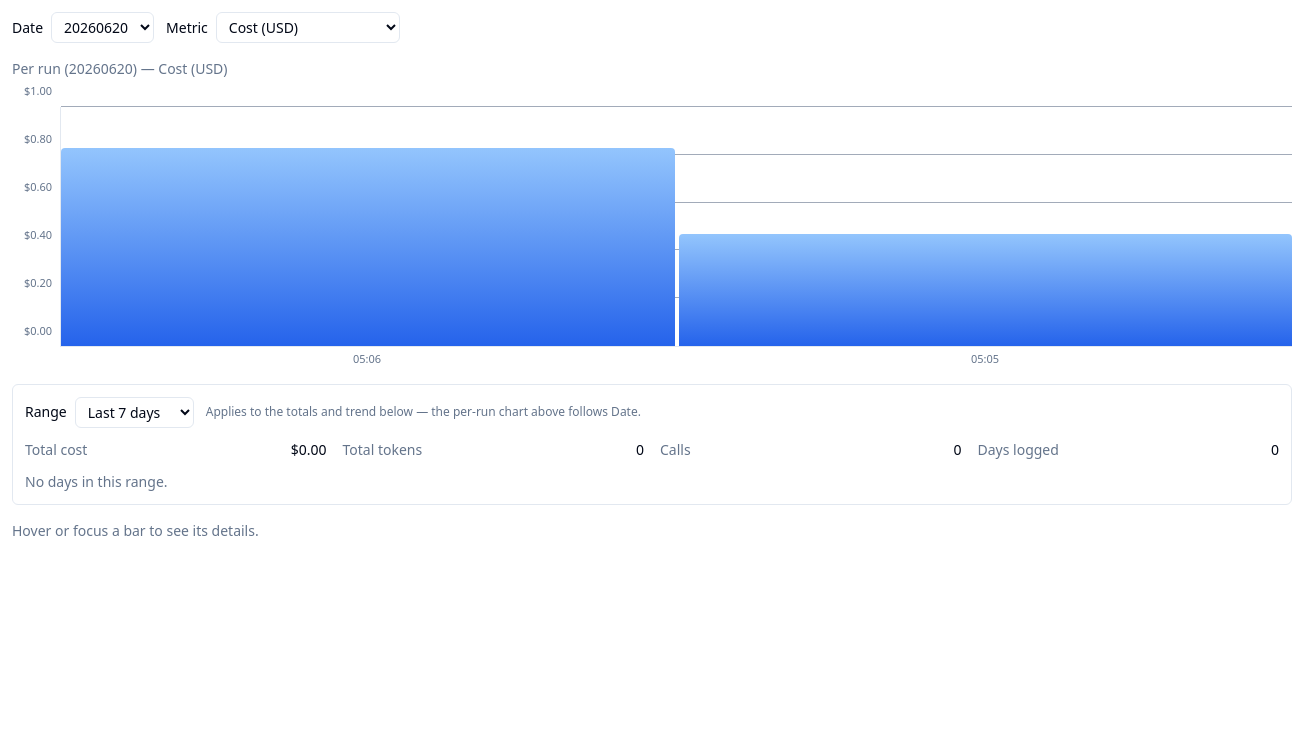
Test case: UsageDashboard › shows formatted key/value detail when a bar is hovered
Hover over the button with test id "usage-bar-0": (368, 226) [61,107,674,346]
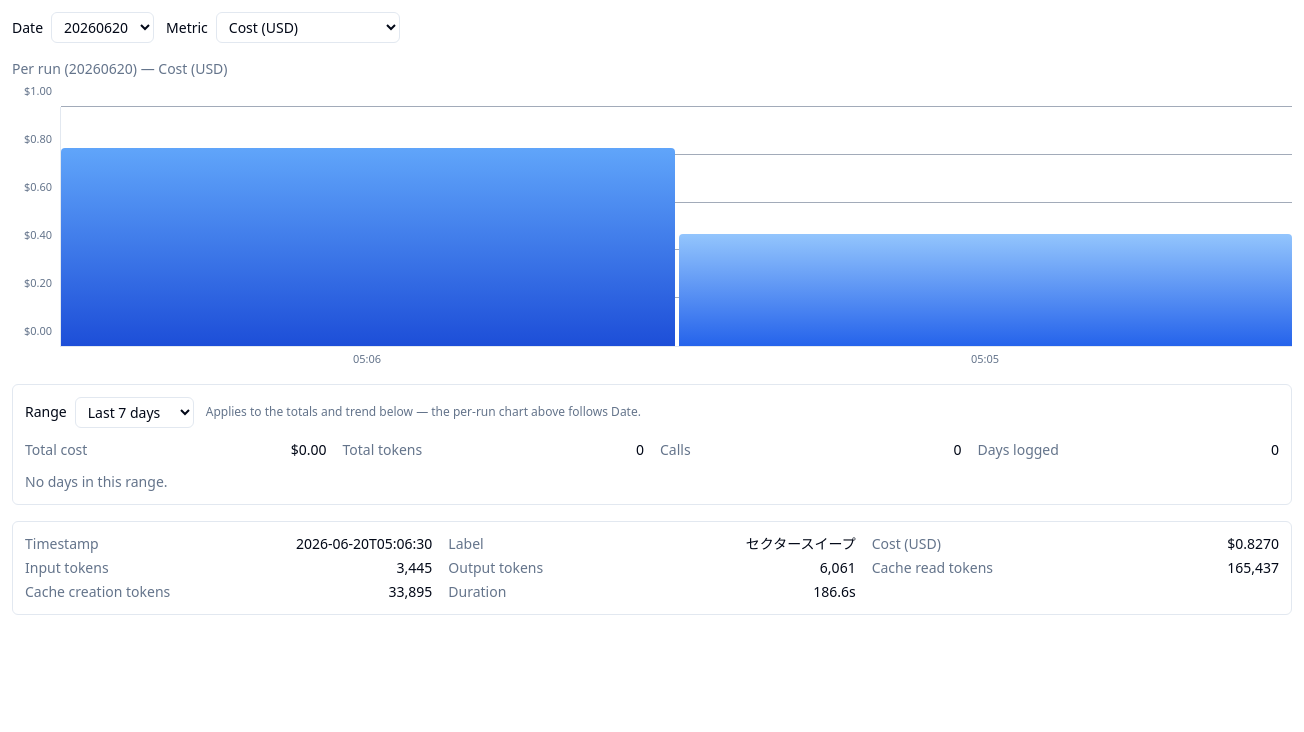
Check: the element with test id "usage-detail" shows "セクタースイープ", box [746,534,856,552]
Check: the element with test id "usage-detail" shows "$0.8270", box [1227,534,1279,552]
Check: the element with test id "usage-detail" shows "186.6s", box [813,582,856,600]
